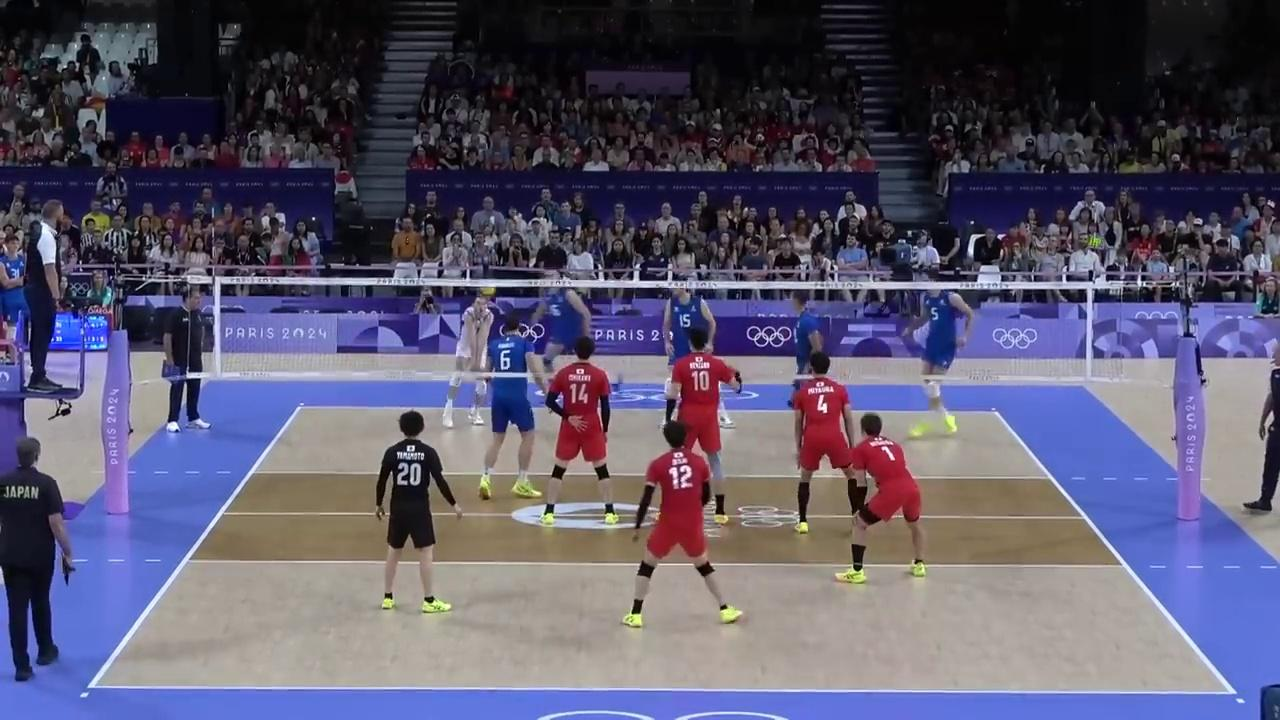ball: (479, 287, 494, 297)
